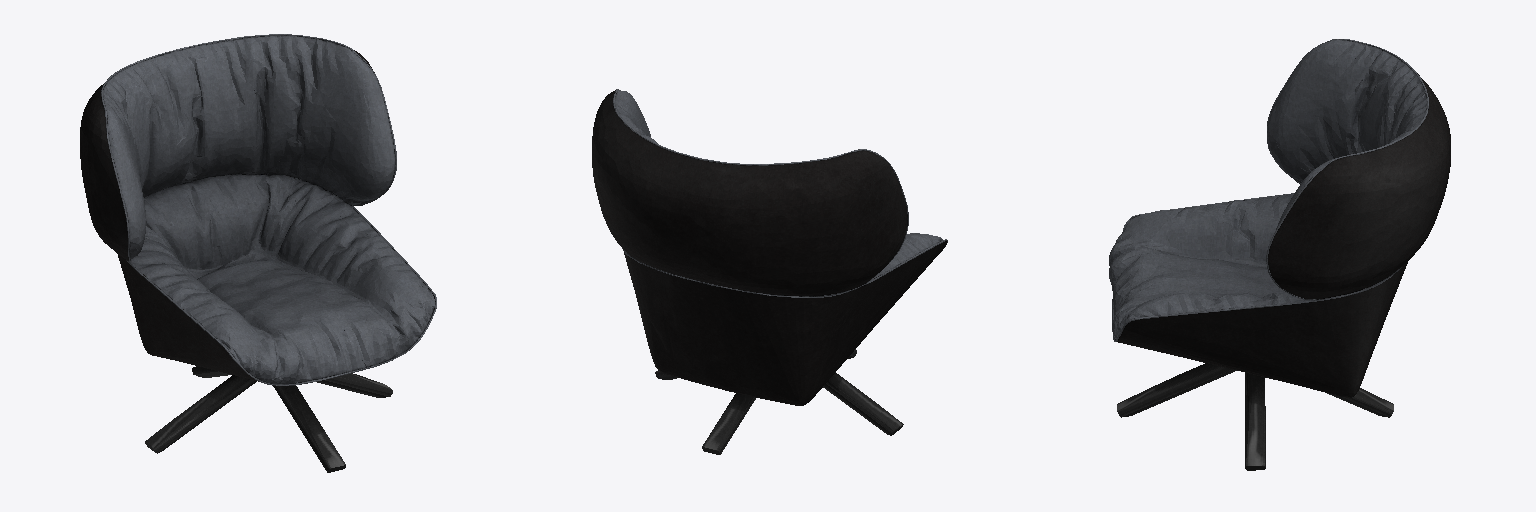
3 renders of one model, left to right at view 1: azimuth 30°, elevation 25°; view 2: azimuth 150°, elevation 25°; view 3: azimuth 270°, elevation 25°, orthographic.
Parts seen in each view (by area): view 1: solid_003, solid_002, solid_001; view 2: solid_002, solid_001, solid_003; view 3: solid_002, solid_003, solid_001.
Boxes of the visible parts, x1=… form: solid_003: x1=101, y1=34, x2=436, y2=385; solid_002: x1=80, y1=50, x2=434, y2=381; solid_001: x1=145, y1=366, x2=392, y2=472; solid_002: x1=592, y1=90, x2=946, y2=405; solid_001: x1=655, y1=349, x2=903, y2=454; solid_003: x1=613, y1=89, x2=947, y2=297; solid_002: x1=1115, y1=73, x2=1450, y2=397; solid_003: x1=1109, y1=39, x2=1428, y2=341; solid_001: x1=1117, y1=363, x2=1393, y2=470.
Size of the model in its own units: 0.8572 by 0.9274 by 0.9069.
1 materials, 1 textured.